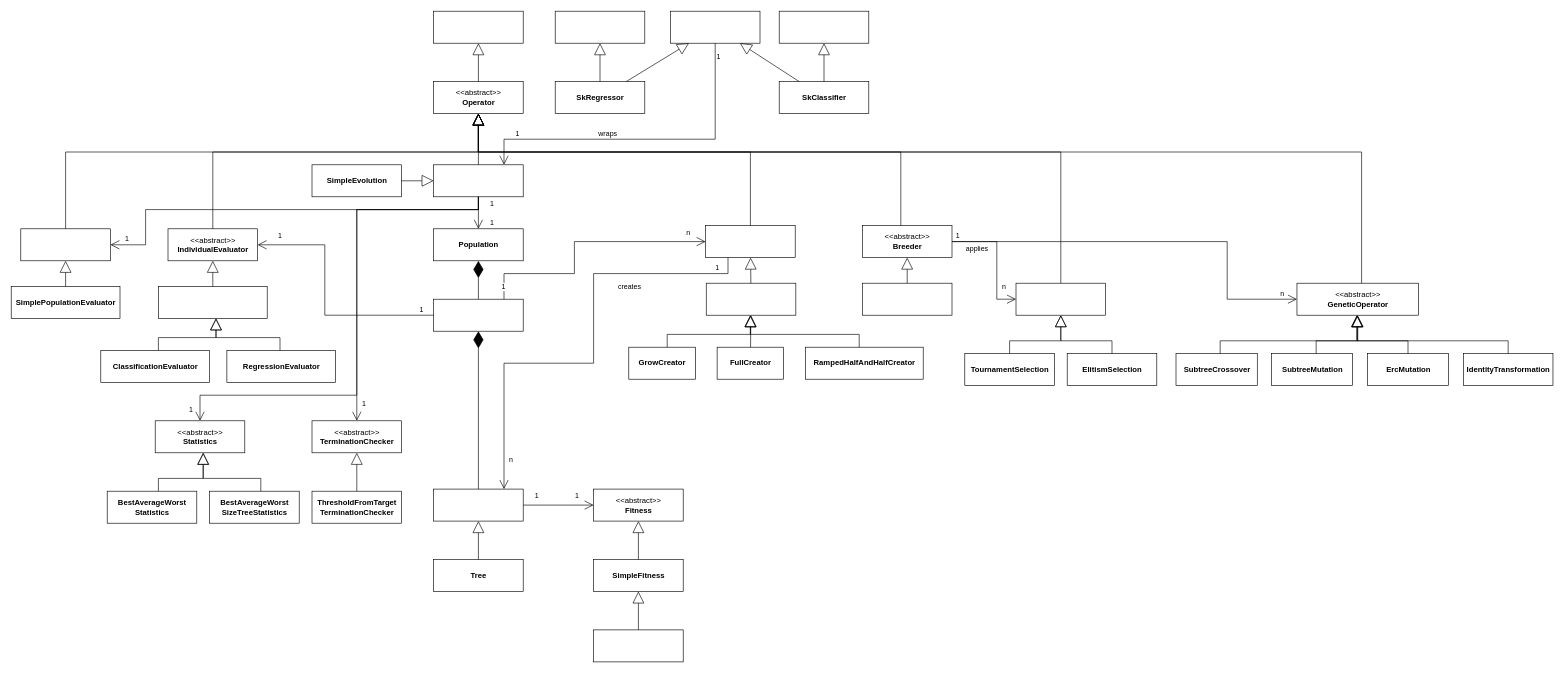
This 1564x673 diagram has some shape labels left out. Here are the shapes that lost their labels. From the top down, the centre of each, then its label:
the point at 478,27: <<abstract>> BeforeAfterPublisher
the point at 600,27: <<mixin>> RegressorMixin
the point at 715,27: <<abstract>> SklearnWrapper
the point at 824,27: <<mixin>> ClassifierMixin
the point at 478,180: <<abstract>> Algorithm
the point at 65,244: <<abstract>> PopulationEvaluator
the point at 750,241: <<abstract>> Creator
the point at 212,302: SimpleIndividualEvaluator
the point at 478,315: Subpopulation
the point at 751,299: <<abstract>> GpTreeCreator
the point at 907,299: SimpleBreeder
the point at 1060,299: <<abstract>> SelectionMethod
the point at 478,504: <<abstract>> Individual
the point at 638,645: GpFitness
